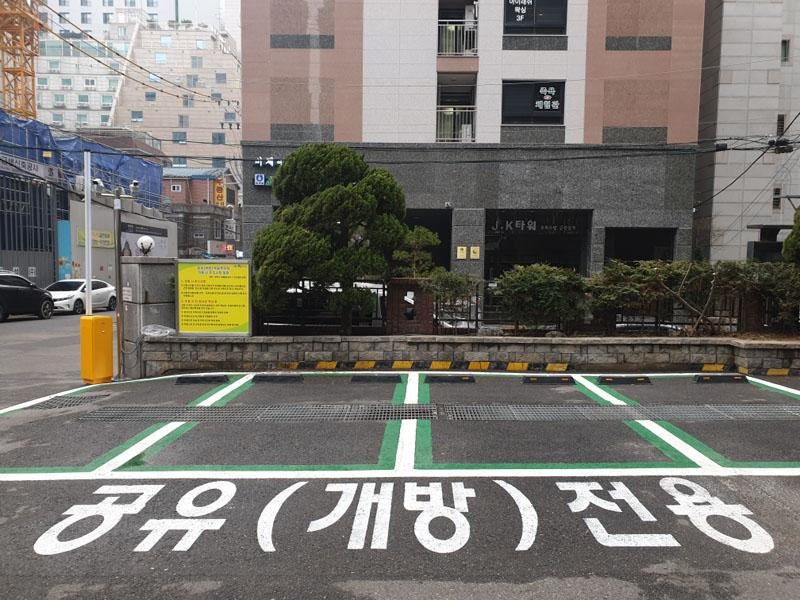empty: (412, 365, 684, 481), (125, 376, 412, 479), (0, 372, 229, 481), (589, 360, 800, 476)
